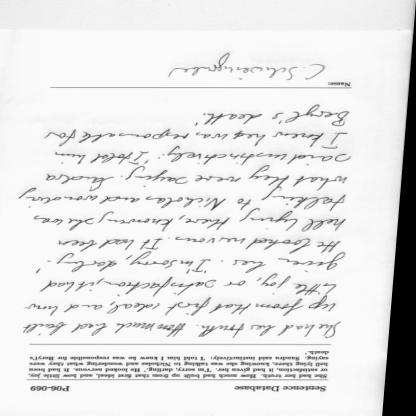Handwritten text: (14, 189, 374, 215), (3, 317, 351, 342), (23, 275, 362, 299), (26, 294, 351, 319), (15, 211, 356, 234), (35, 127, 363, 149), (39, 169, 368, 190), (47, 252, 362, 273), (19, 237, 364, 255), (201, 91, 360, 130), (51, 149, 362, 165)
